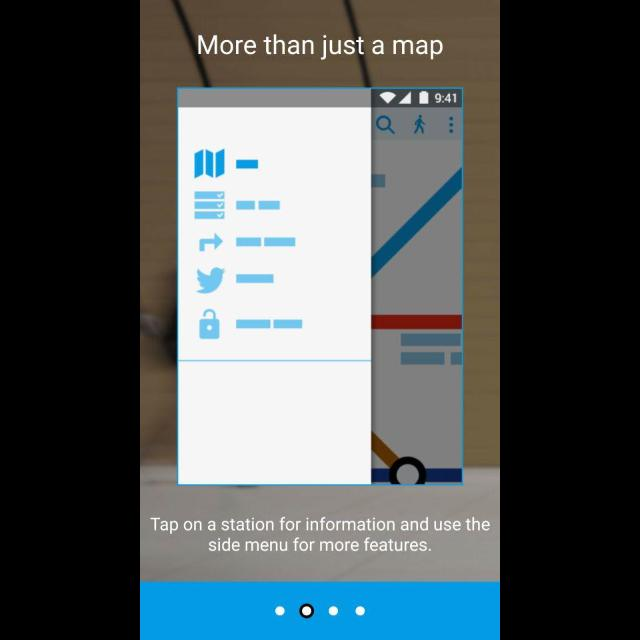backgroundimage: (140, 1, 500, 581)
image: (177, 88, 463, 486)
pageindicator: (274, 603, 366, 619)
text: (150, 516, 490, 552), (198, 34, 444, 60)
